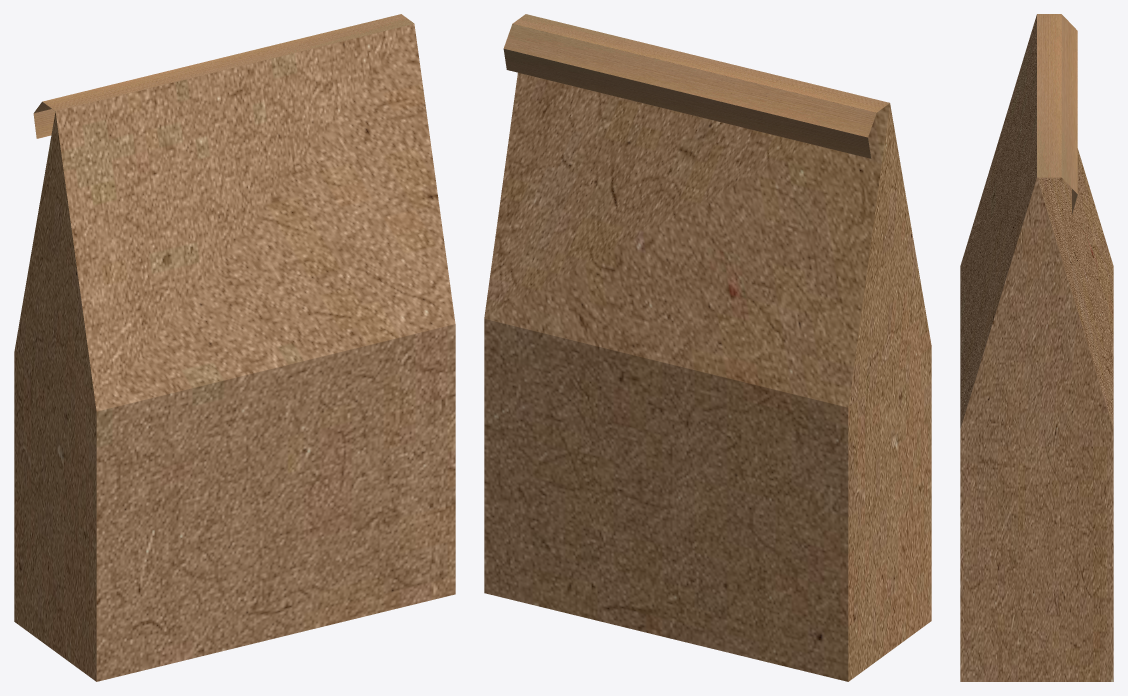
Rendered from recolbolsa.glb.
The picture shows the model from 3 angles, left to right: view 1: azimuth 30°, elevation 25°; view 2: azimuth 150°, elevation 25°; view 3: azimuth 270°, elevation 25°; orthographic projection. The views are drawn at different scales.
Parts seen in each view (by area): view 1: Cube; view 2: Cube; view 3: Cube.
Boxes of the visible parts, x1,y1,x2,y2 form: Cube: (14,14,455,681); Cube: (484,14,931,681); Cube: (960,14,1113,681).
Bounding box in the file's own units: 1.7 × 2.45 × 0.6737.
1 material, 1 textured.
